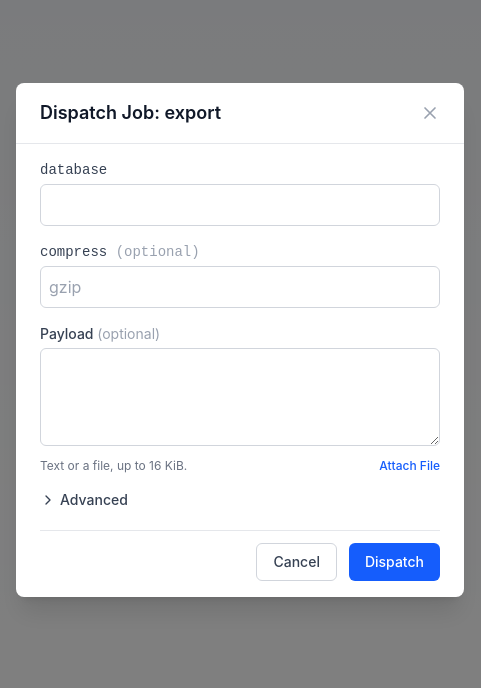
DispatchJobModal advanced options › are hidden until opened
Expected: the field labelled "Priority" is not shown
Click the button "Advanced".
click(84, 500)  # box [40,478,128,522]
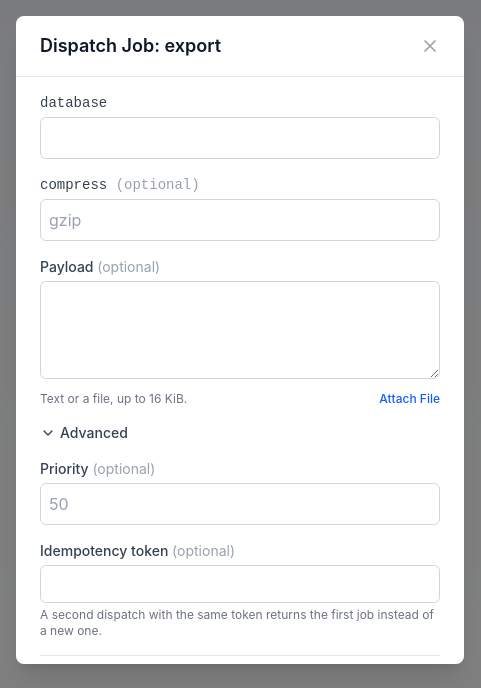
Expected: the button "Advanced" is expanded, [40,411,128,455]
Expected: the field labelled "Idempotency token (optional)" is shown, [40,565,440,603]
